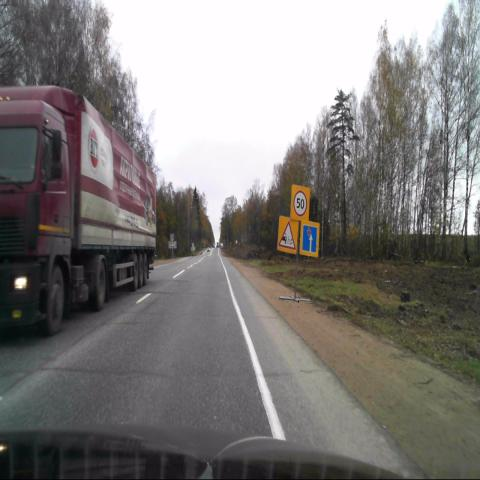1_18: (277, 215, 298, 255)
2_7: (300, 222, 319, 257)
3_24: (290, 184, 310, 221)
